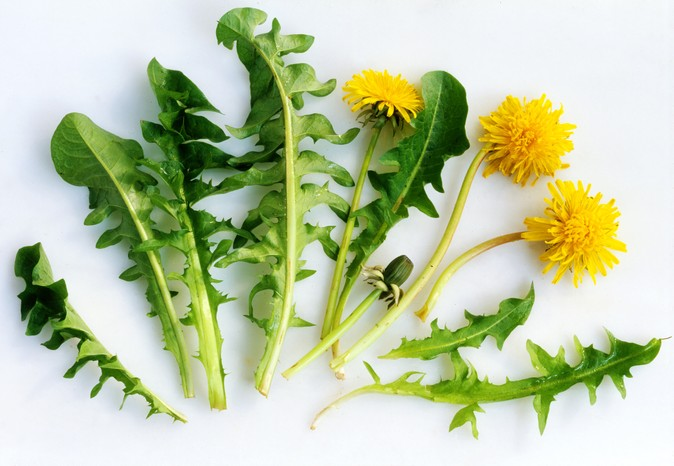begonvil: (499, 182, 632, 294), (462, 79, 577, 185), (325, 62, 434, 161)
